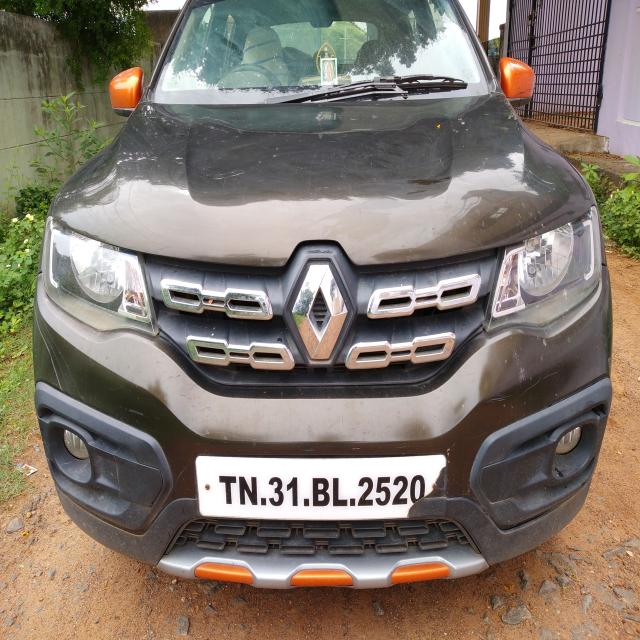scratch: (29, 308, 82, 395), (487, 369, 565, 409), (194, 428, 261, 447), (119, 402, 150, 424), (171, 460, 194, 486), (388, 443, 440, 454), (443, 444, 458, 464), (297, 447, 320, 455), (350, 446, 366, 454)
